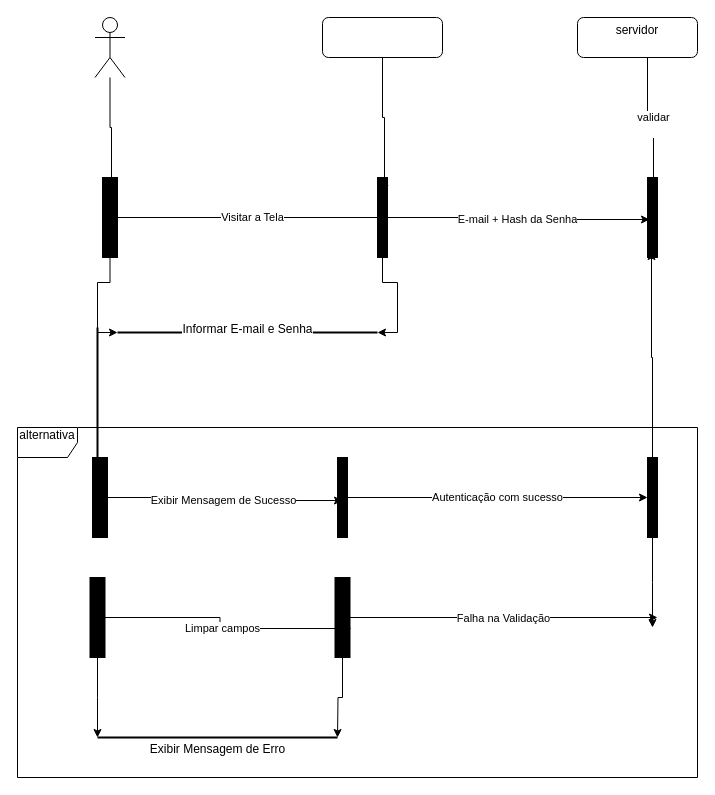
Some shapes in this 715 by 795 pixel diagram are drawn without their labels. The centre of each missing label's shape, as x and y in pixels:
Tela de login: [382,37]
usuário: [109,47]
